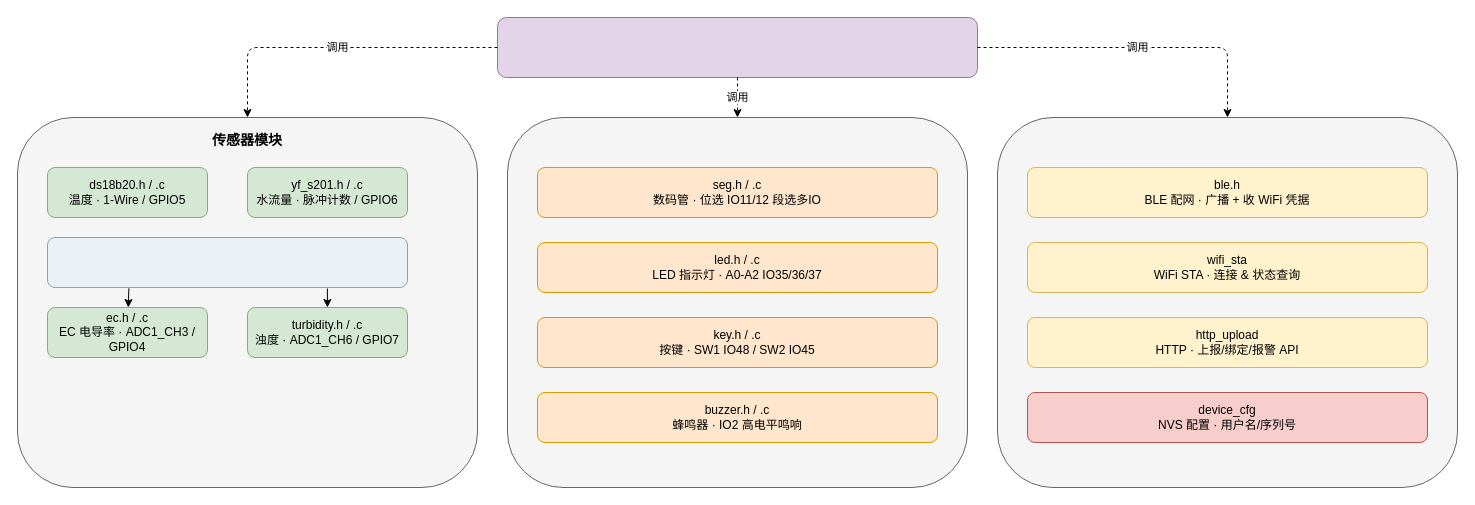
Image size: 1475x505. Some labels were removed from this diagram. Here are the shapes that lost their labels. From the top down, the box of each, then its label:
(496, 16, 978, 78): main
(46, 236, 408, 288): adc1_common ADC1 兼容层
(506, 116, 968, 488): 外设模块
(996, 116, 1458, 488): 通信模块
